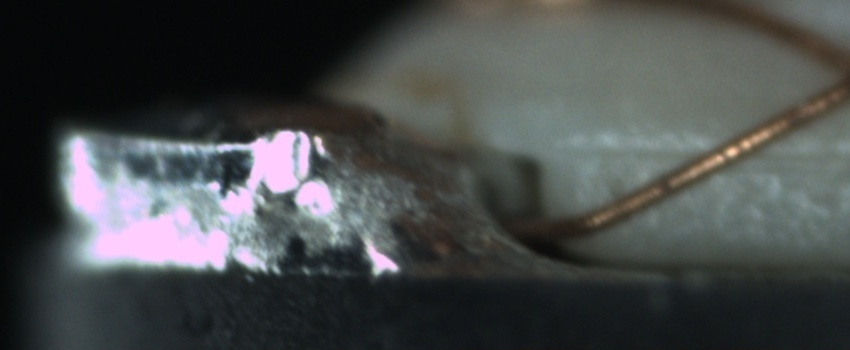CL: (808, 30, 850, 114)
DL: (569, 120, 849, 183)
